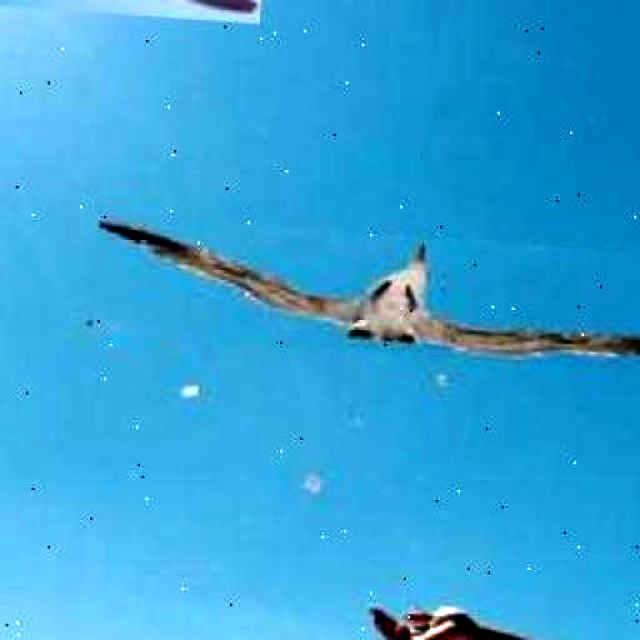airplane: (91, 214, 640, 376)
